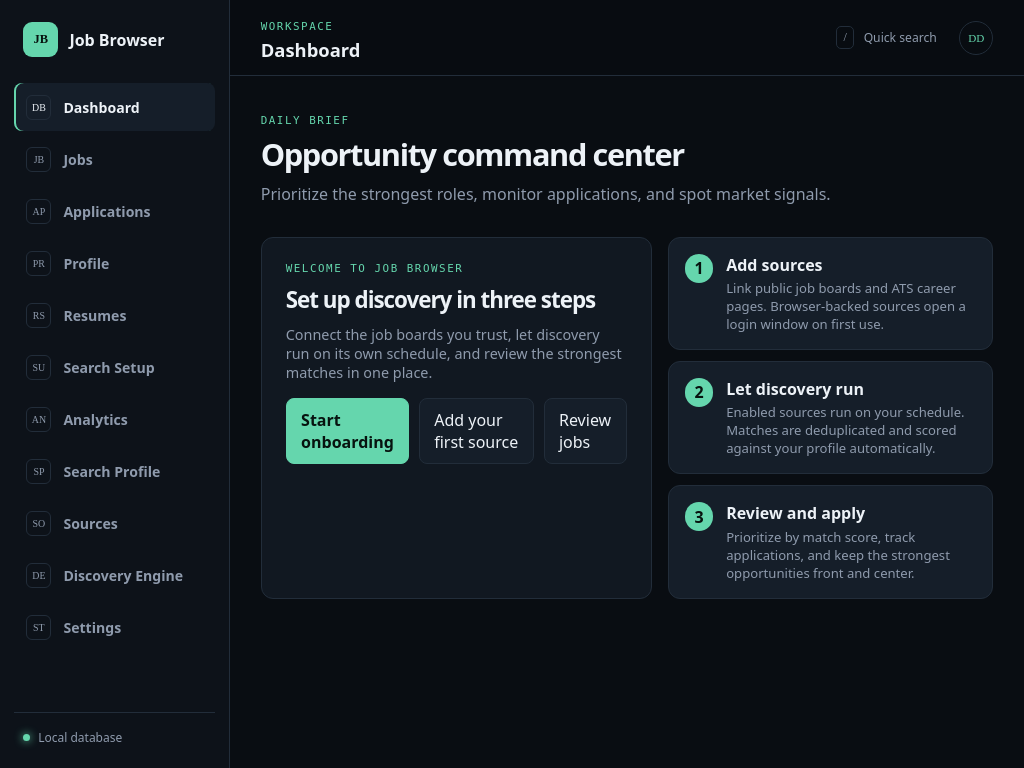
Test: dashboard UI › navigates between all primary routes
The width and height of the screenshot is (1024, 768).
Expected: the heading "Opportunity command center" is shown, [261,133,684,175]
Click the link "JB Jobs" at (39, 159), box [26,146,93,172]
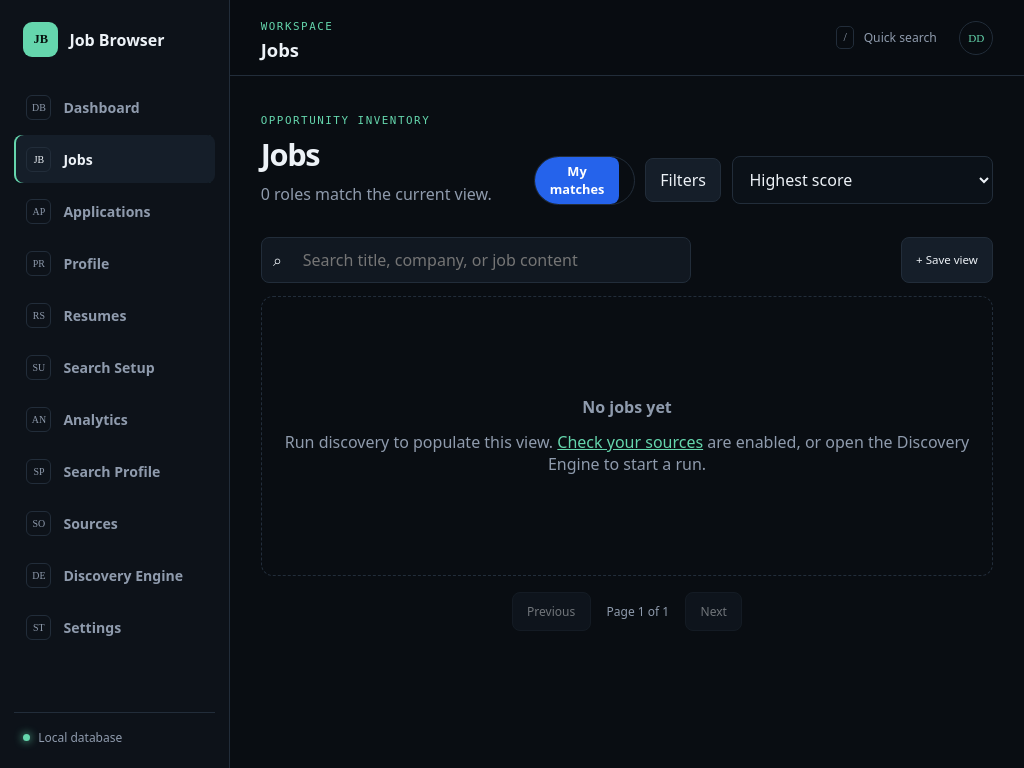
Expected: the link "AN Analytics" is shown, [26,407,128,432]
Expected: the text "Opportunity inventory" is shown, [261,114,430,127]
